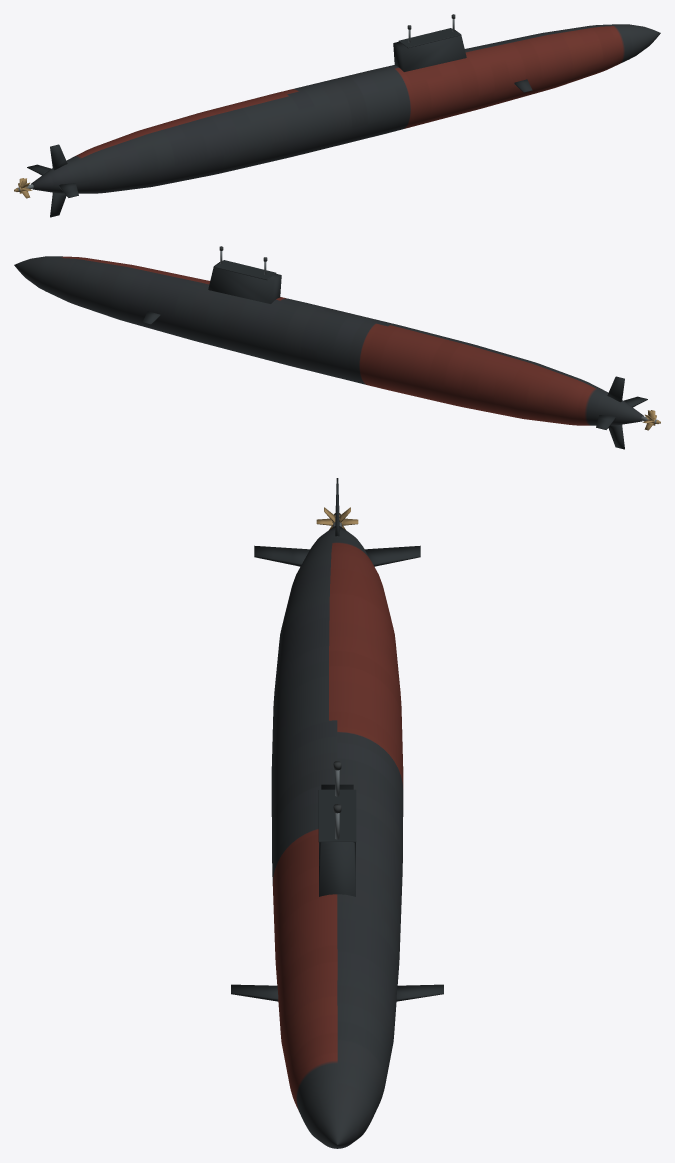
Rendered from US_SSN_LosAngeles_LOD1.fbx.
3 renders of one model, top to bottom at view 1: azimuth 30°, elevation 25°; view 2: azimuth 150°, elevation 25°; view 3: azimuth 270°, elevation 25°, orthographic. The views are drawn at different scales.
Visible parts, largest first — view 1: US_SSN_LosAngeles_LOD1; view 2: US_SSN_LosAngeles_LOD1; view 3: US_SSN_LosAngeles_LOD1.
Part boxes in pixels (bbox=[...]): US_SSN_LosAngeles_LOD1: bbox=[14, 14, 660, 217]; US_SSN_LosAngeles_LOD1: bbox=[14, 246, 660, 449]; US_SSN_LosAngeles_LOD1: bbox=[231, 478, 443, 1148].
Size of the model in its own units: 113 by 16.17 by 17.36.
6 materials, 1 textured.
